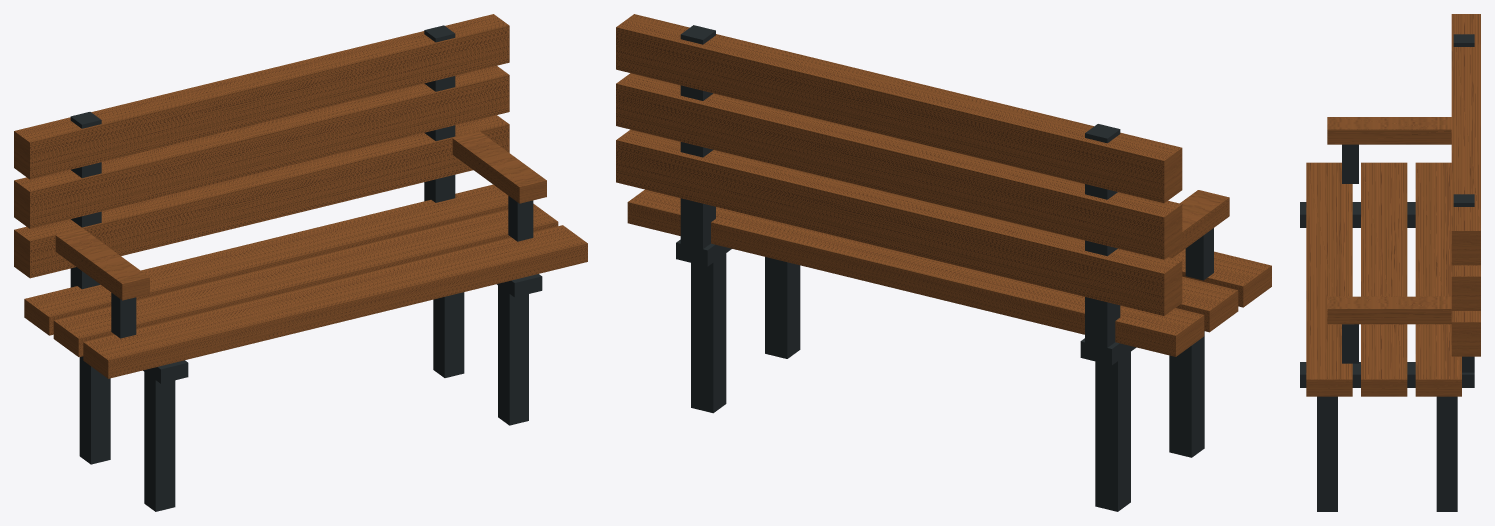
Rendered from bancoParque.obj.
3 views of the same model, side by side, from view 1: azimuth 30°, elevation 25°; view 2: azimuth 150°, elevation 25°; view 3: azimuth 270°, elevation 25° (orthographic). The views are drawn at different scales.
Parts seen in each view (by area): view 1: BancoParque; view 2: BancoParque; view 3: BancoParque.
Part boxes in pixels (box(x1,y1,x2,y2)): BancoParque: box(14, 14, 587, 511); BancoParque: box(616, 14, 1271, 511); BancoParque: box(1300, 14, 1480, 511).
Size of the model in its own units: 2.44 by 1.62 by 0.86.
Materials: 2 (2 with a texture image).
